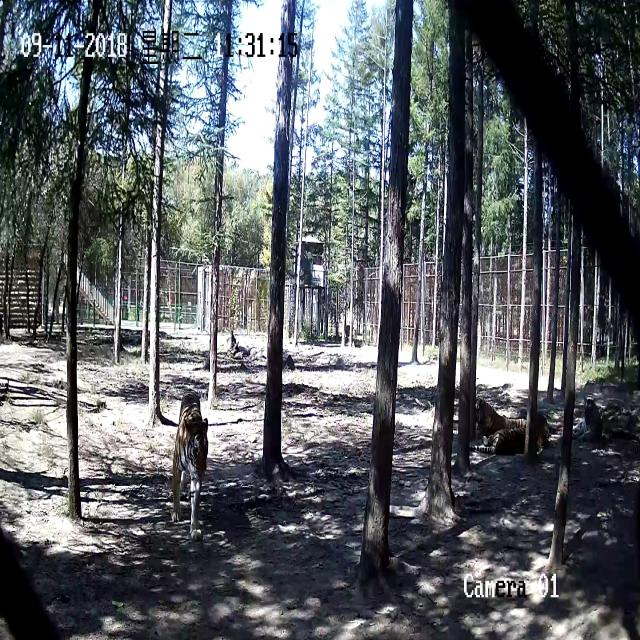Tiger: (166, 383, 223, 549), (462, 386, 550, 463), (571, 390, 610, 444)
